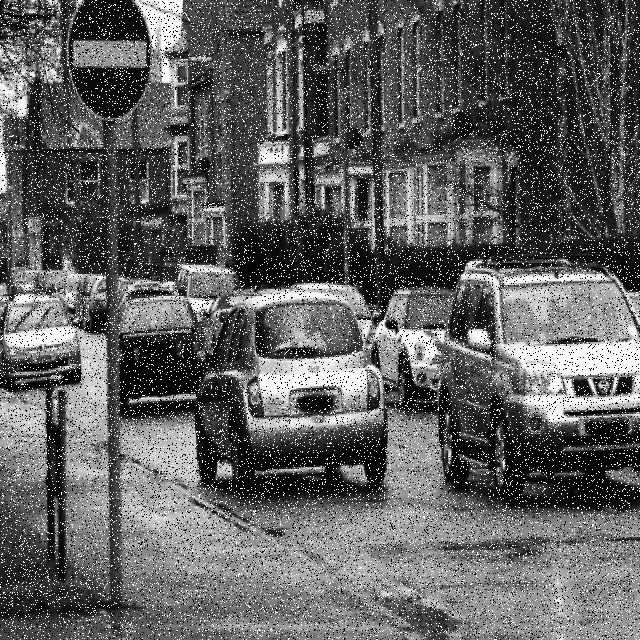no entry: (64, 2, 152, 119)
